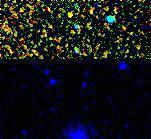star: (53, 0, 83, 25)
